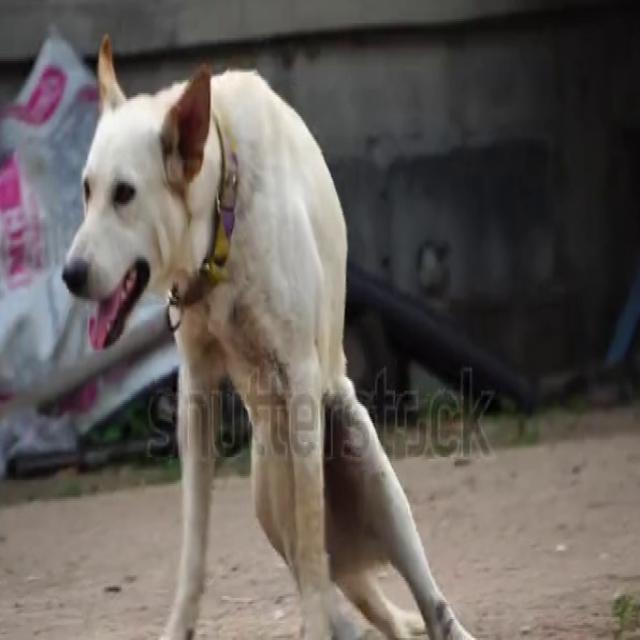injured-animals: (56, 29, 505, 638)
